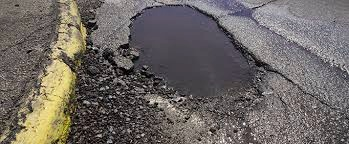pothole: (111, 0, 268, 108)
